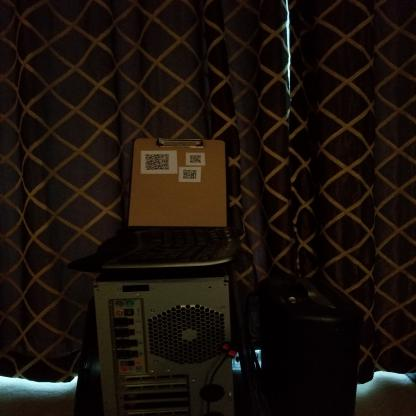qr: (144, 153, 169, 172), (182, 168, 197, 180), (190, 153, 202, 163)
